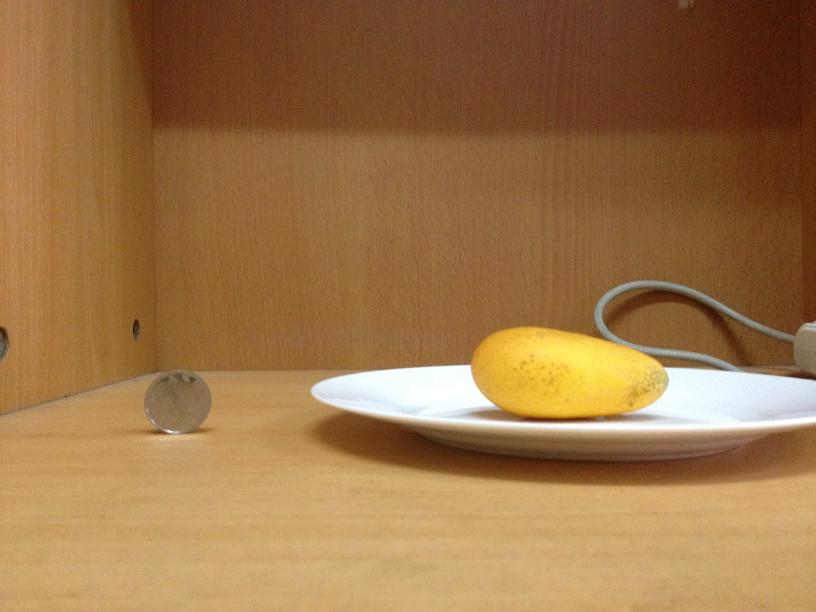coin: (143, 370, 212, 435)
mango: (468, 326, 670, 418)
